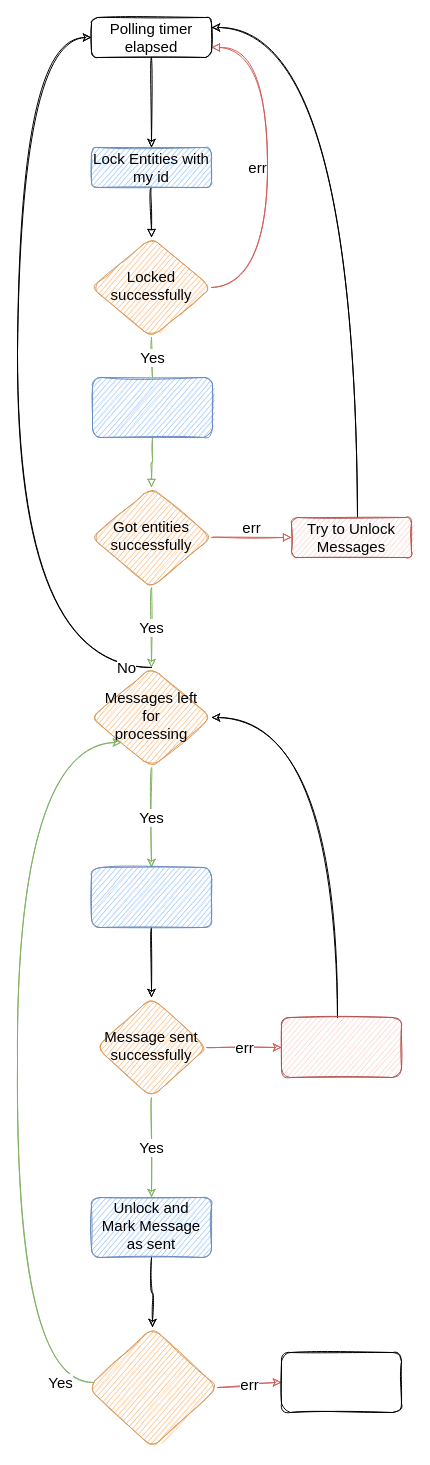
The diagram is 430 pixels wide and 1465 high, and some of its shapes have lost their labels. Here are the shapes that lost their labels. From the top down, the box of each, then its label:
(92, 376, 212, 438): Get Entities locked by my id
(90, 866, 212, 928): Send message via broker
(280, 1016, 402, 1078): Try to Unlock Message
(86, 1326, 218, 1448): Lock and Marked Successfully
